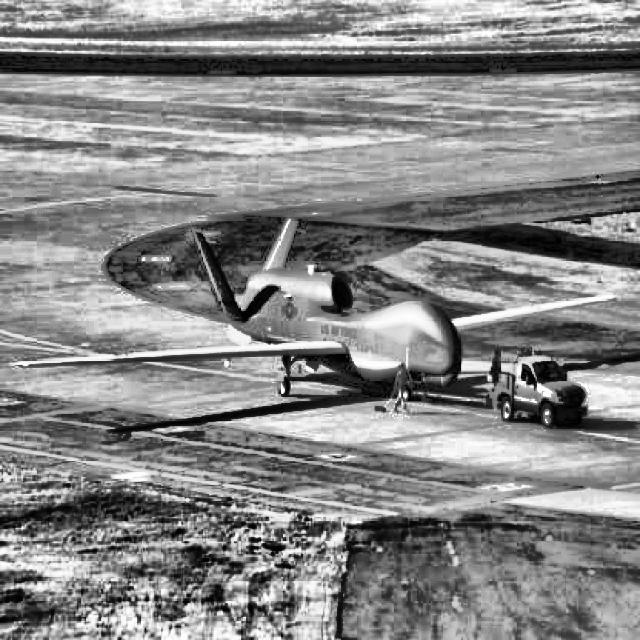RQ4: (10, 217, 618, 401)
